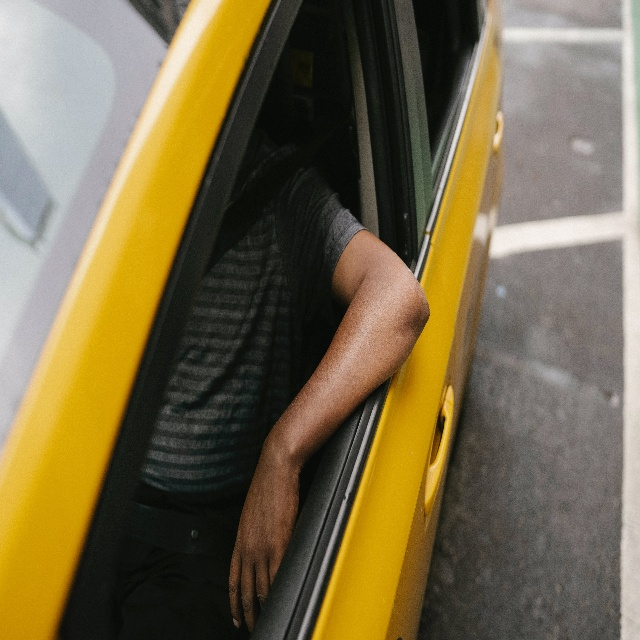Sin_guantes: (228, 431, 300, 633)
